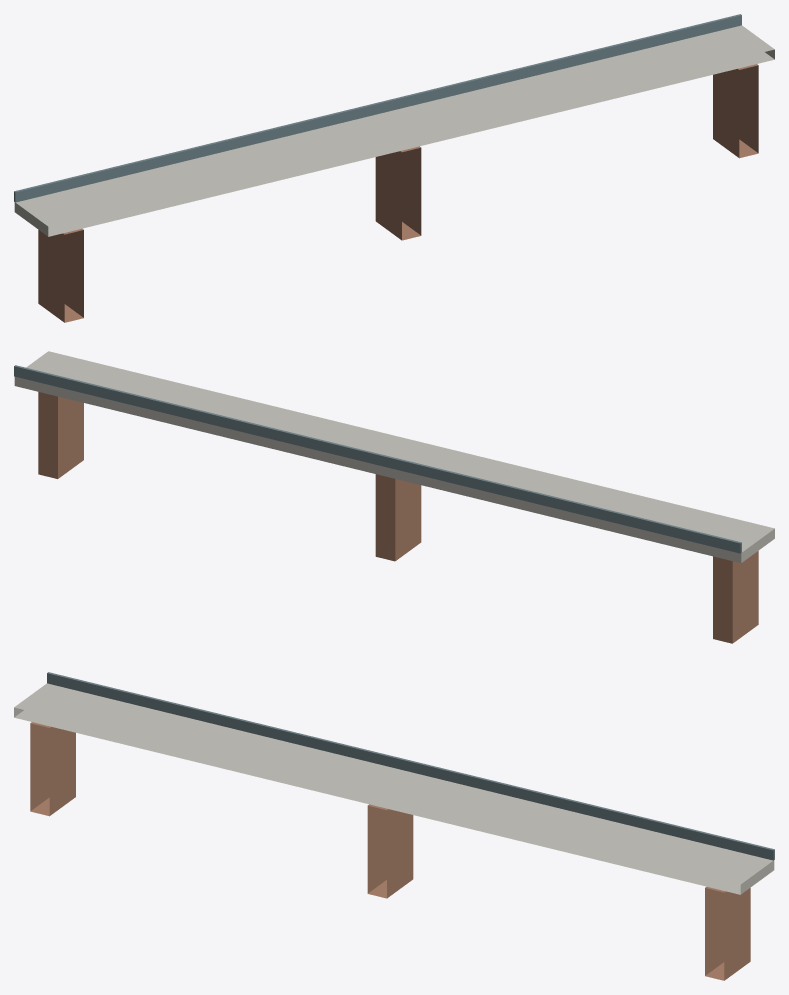
Rendered from urban-1-1.glb.
3 views of the same model, one above another, from view 1: azimuth 30°, elevation 25°; view 2: azimuth 150°, elevation 25°; view 3: azimuth 330°, elevation 25° (orthographic).
Visible parts, largest first — view 1: urban-1-1; view 2: urban-1-1; view 3: urban-1-1.
Boxes of the visible parts, box(x1,y1,x2,y2) form: urban-1-1: box(14, 14, 774, 322); urban-1-1: box(14, 351, 774, 643); urban-1-1: box(14, 672, 774, 980).
Bounding box in the file's own units: 112 × 16.25 × 9.2.
